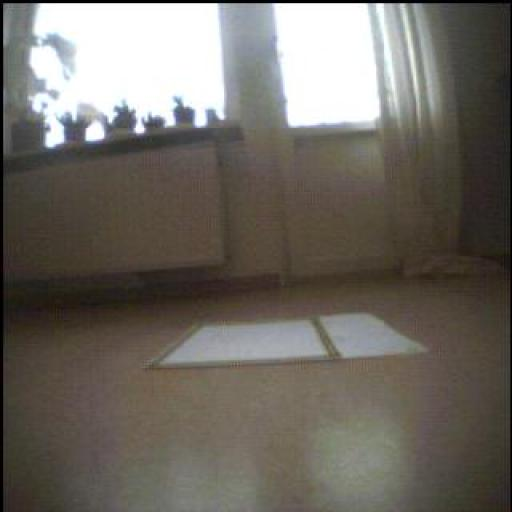Pad: (150, 315, 427, 369)
